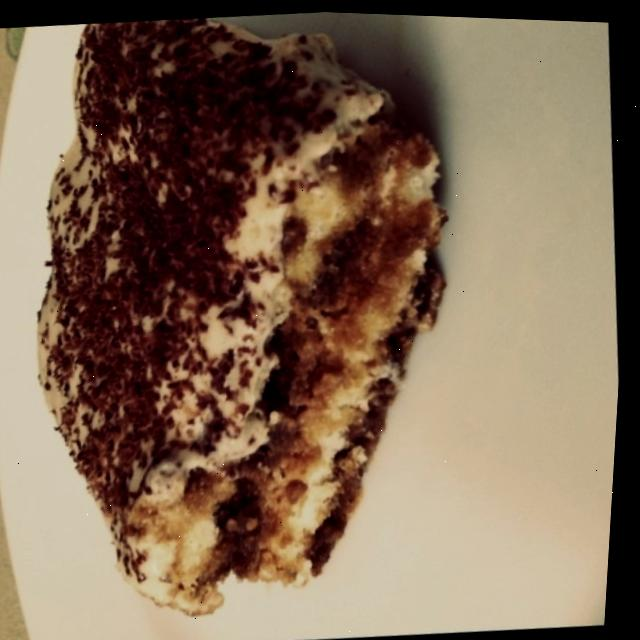蛋糕甜品: (8, 1, 494, 615)
